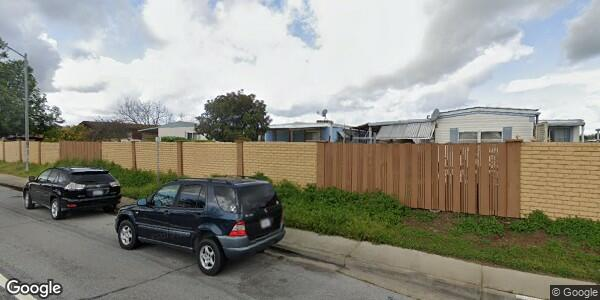Steel_Pole: (2, 40, 31, 176)
